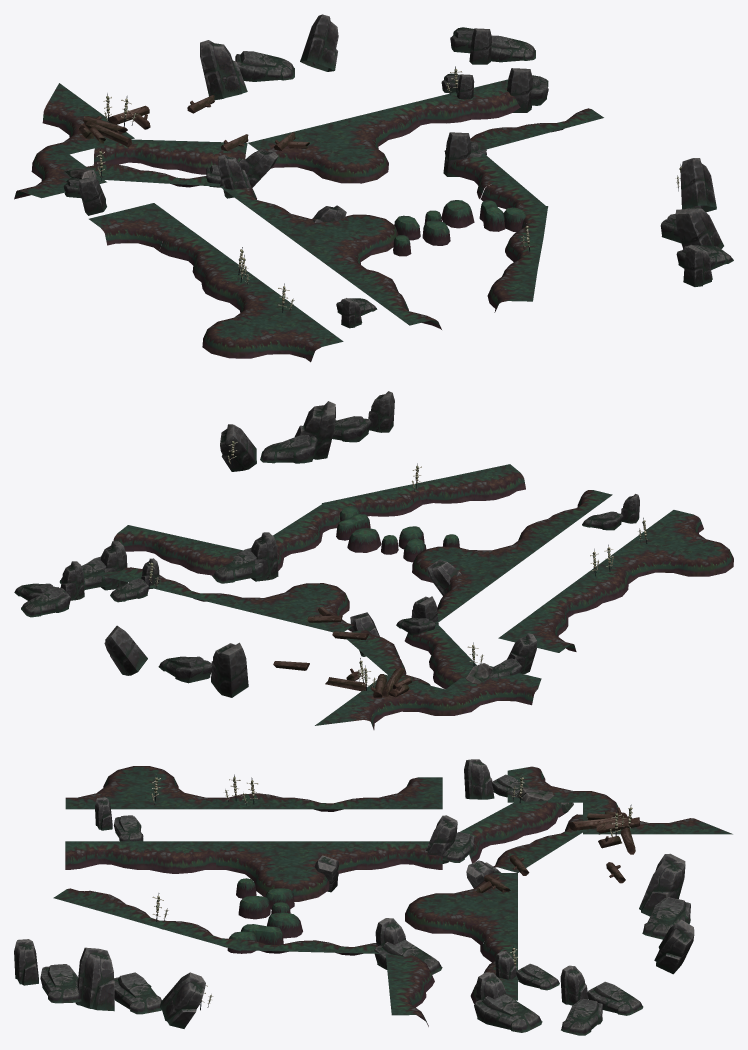
Rendered from mesh_zuhe_3.FBX.
The picture shows the model from 3 angles, top to bottom: view 1: azimuth 30°, elevation 25°; view 2: azimuth 150°, elevation 25°; view 3: azimuth 270°, elevation 25°; orthographic projection. The views are drawn at different scales.
Visible parts, largest first — view 1: mesh_zuhe_3; view 2: mesh_zuhe_3; view 3: mesh_zuhe_3.
Part boxes in pixels (box(x1,y1,x2,y2)): mesh_zuhe_3: box(14, 14, 733, 362); mesh_zuhe_3: box(14, 391, 733, 729); mesh_zuhe_3: box(14, 759, 732, 1035).
Size of the model in its own units: 5949 by 719 by 6795.
Materials: 1 (1 with a texture image).
